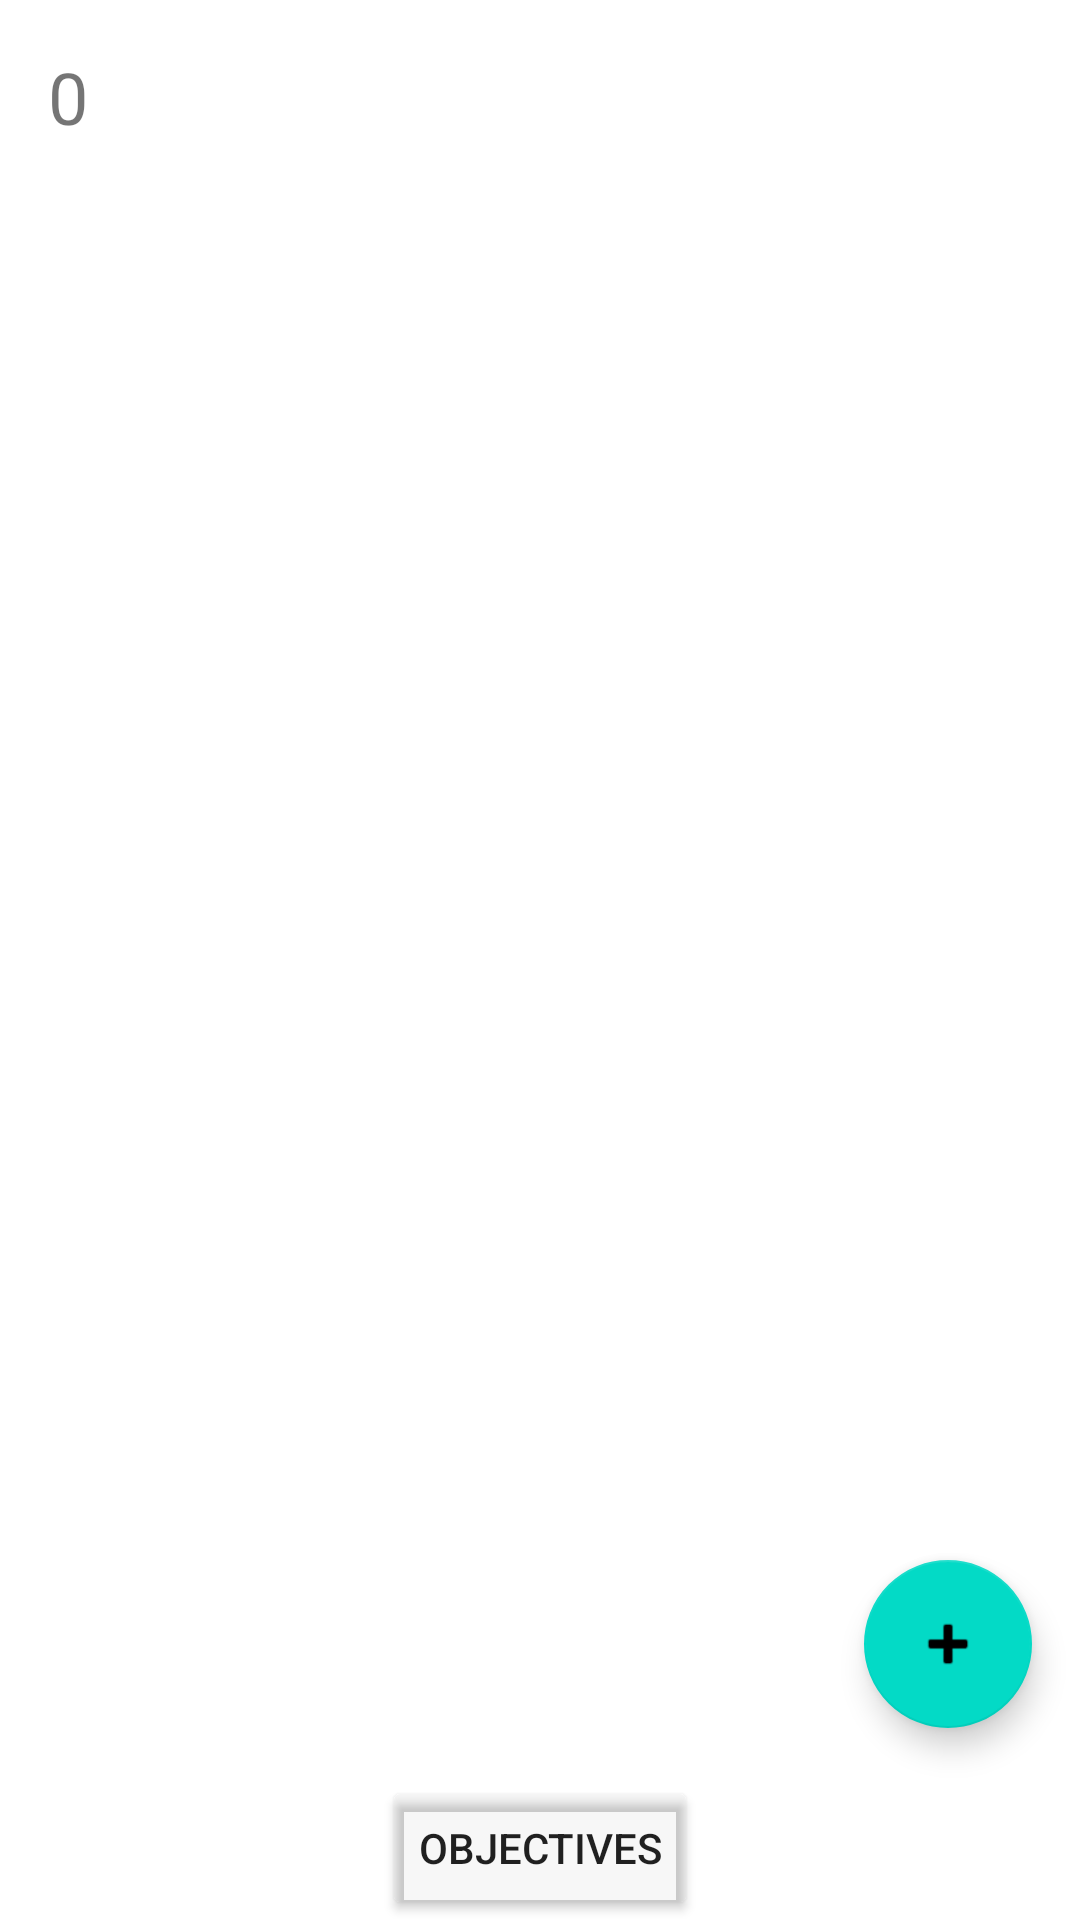

Icon bounding boxes for this 1080px x 1920px phone screenshot, format detection(x1, y1, x2, y2):
add: detection(864, 1560, 1032, 1728)
